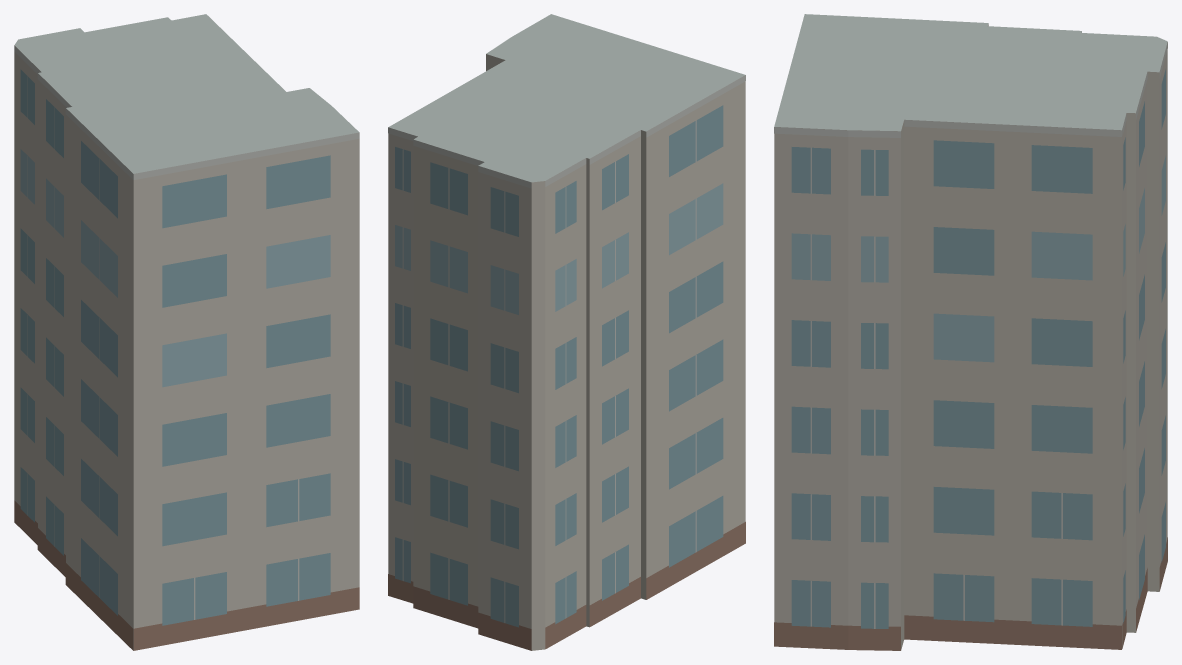
File: survey-upis-32737849.glb
3 renders of one model, left to right at view 1: azimuth 30°, elevation 25°; view 2: azimuth 150°, elevation 25°; view 3: azimuth 270°, elevation 25°, orthographic. The views are drawn at different scales.
Visible parts, largest first — view 1: survey-upis-32737849.tmp; view 2: survey-upis-32737849.tmp; view 3: survey-upis-32737849.tmp.
Boxes of the visible parts, <box> form: survey-upis-32737849.tmp: <box>14,14,359,650</box>; survey-upis-32737849.tmp: <box>388,14,745,650</box>; survey-upis-32737849.tmp: <box>774,14,1167,650</box>.
Size of the model in its own units: 8.96 by 18.5 by 12.71.
